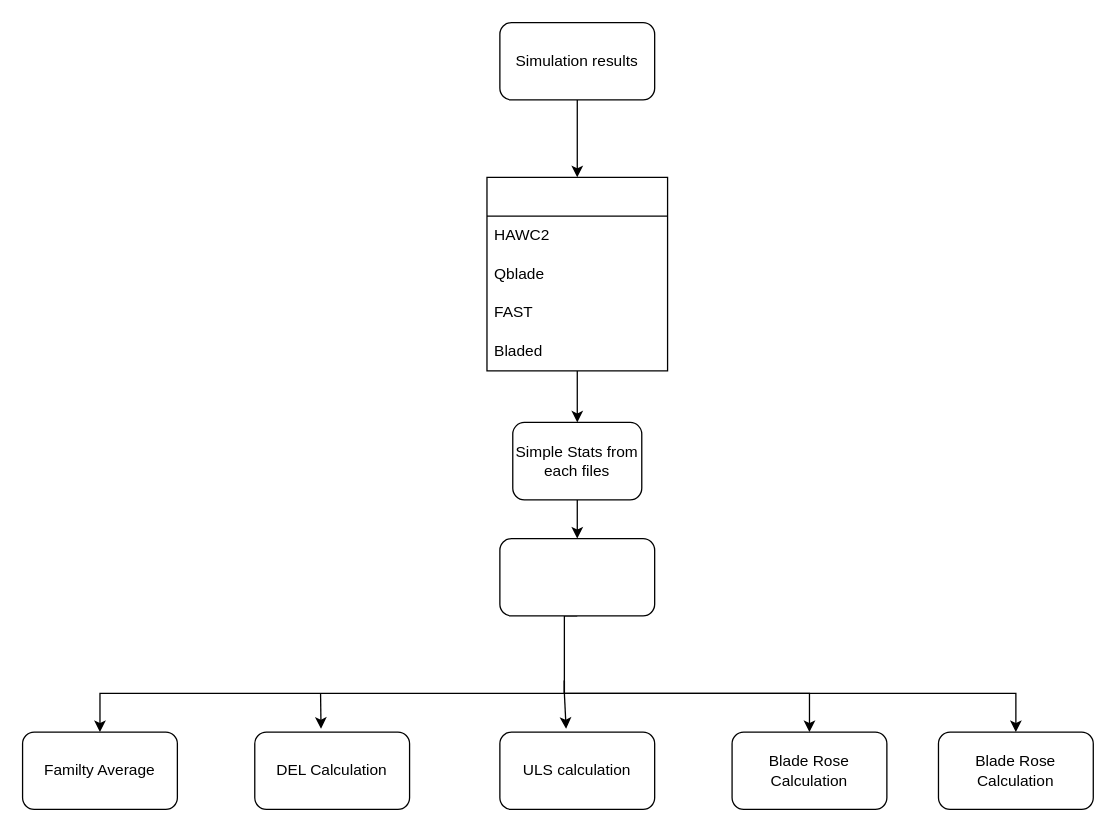
The diagram is 1116 pixels wide and 832 high, and some of its shapes have lost their labels. The box of each missing label's shape, as (x1, y1, x2, y2) in pixels:
Concatenate and Save all Stats of all files: (499, 537, 655, 616)
Reader Script: (486, 176, 668, 371)
